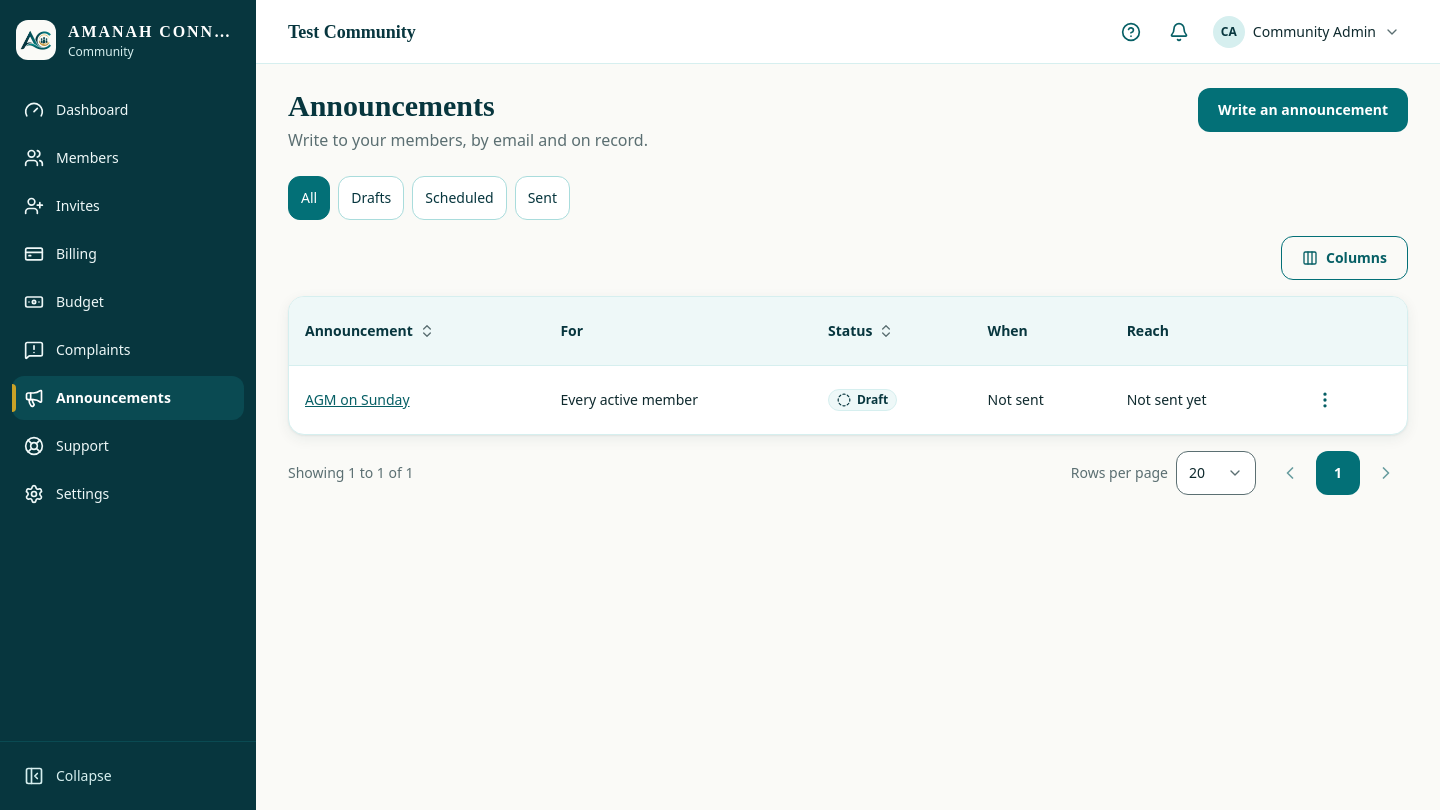
Test: composer › shows the rich text toolbar and the email allowance
Expected: the button "AGM on Sunday" is shown, top-left (305, 390), bottom-right (410, 410)
Click the button named "Actions for AGM on Sunday".
click(1325, 400)  # box top-left (1303, 378), bottom-right (1347, 422)
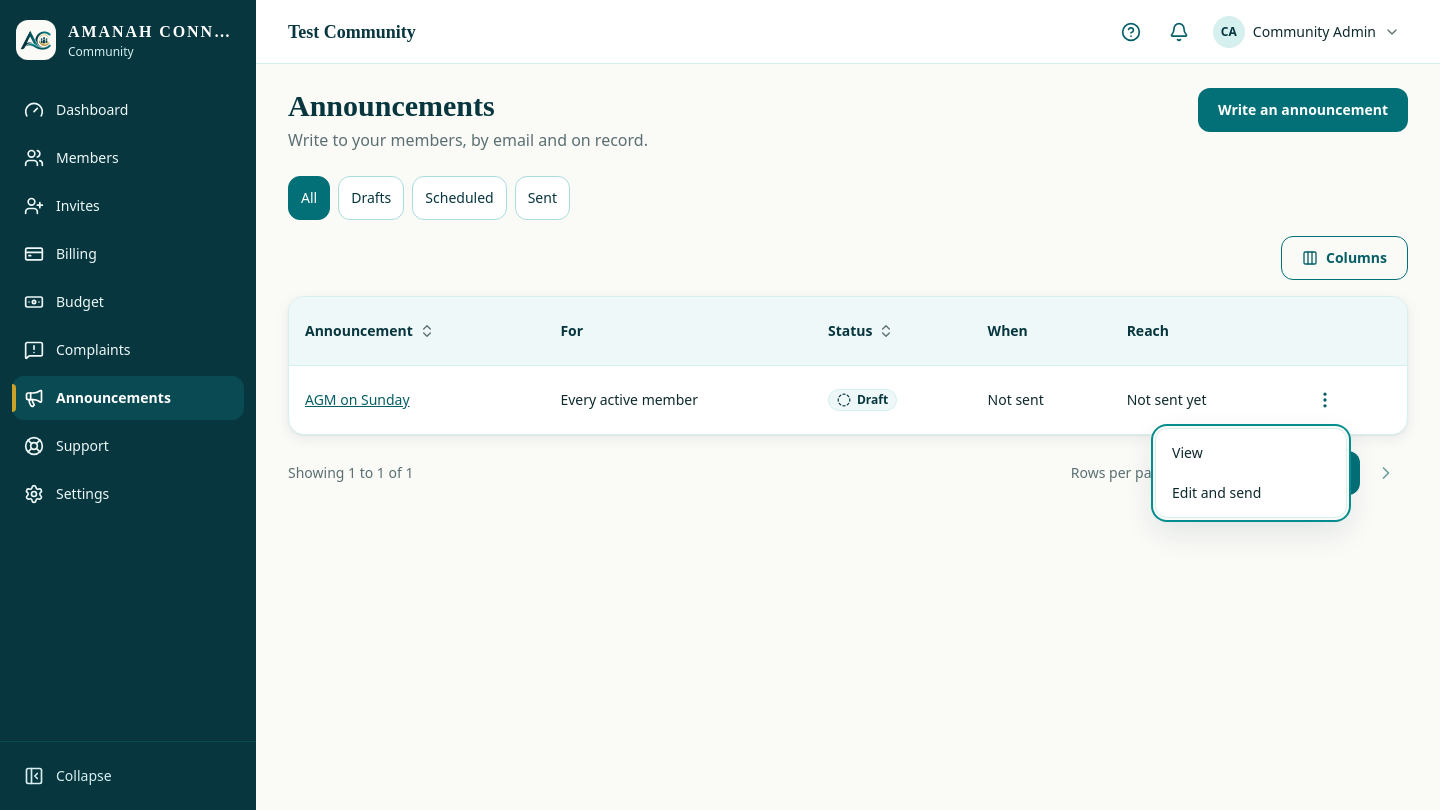
Click the menu item "Edit and send".
click(1217, 492)  # box top-left (1172, 483), bottom-right (1261, 502)
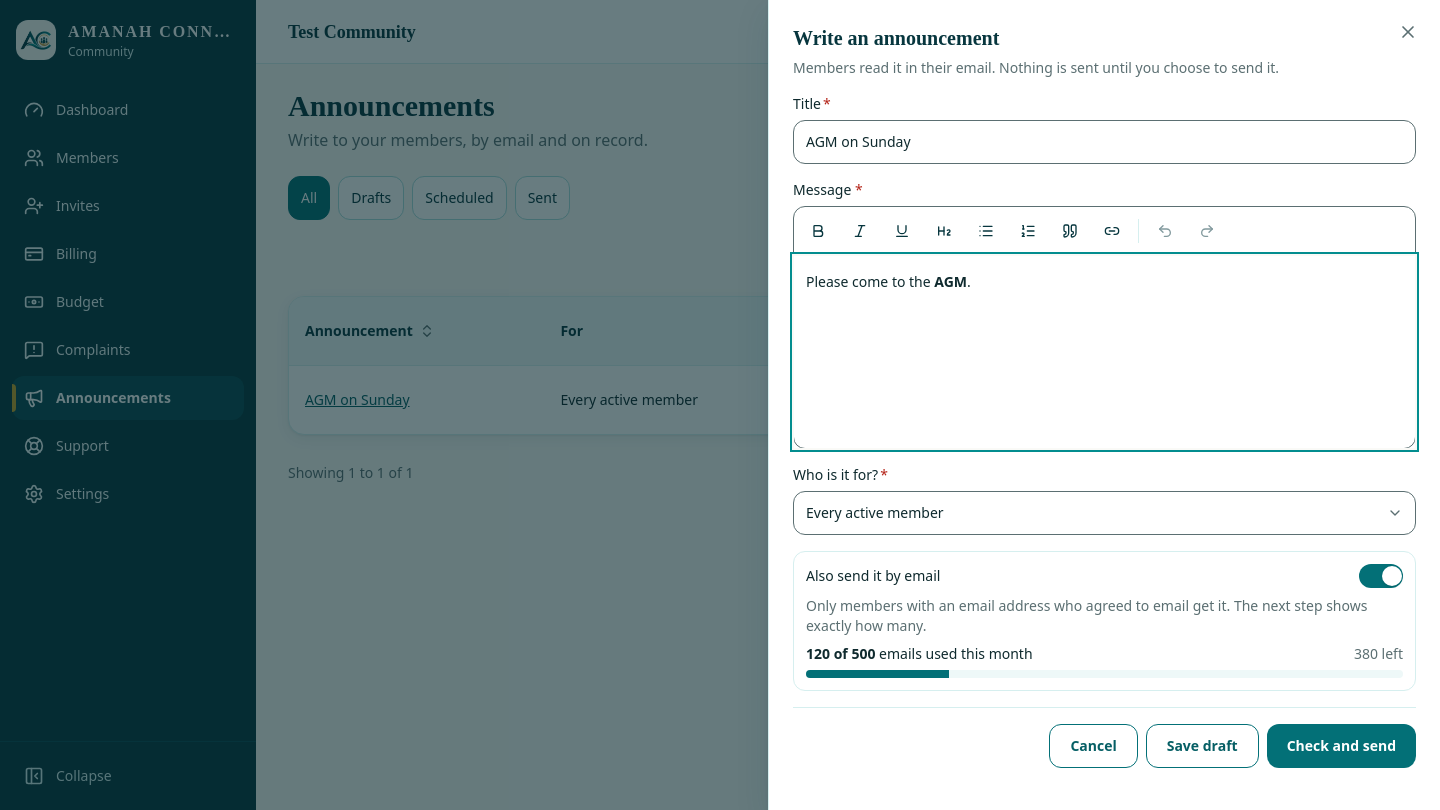
Result: the button named "Bold" is shown at top-left (798, 211), bottom-right (838, 251)
Result: the button named "Italic" is shown at top-left (840, 211), bottom-right (880, 251)
Result: the button named "Underline" is shown at top-left (882, 211), bottom-right (922, 251)
